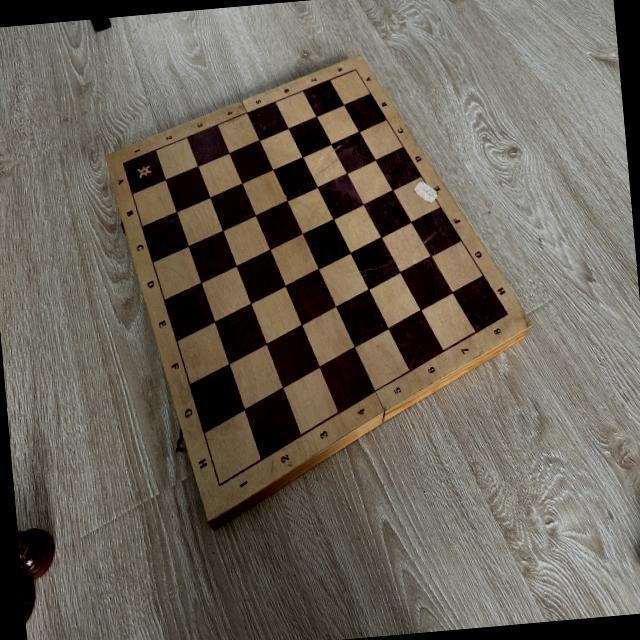chess-table-corners: (211, 476, 228, 494), (116, 154, 130, 172), (500, 304, 512, 322), (350, 62, 361, 78)
